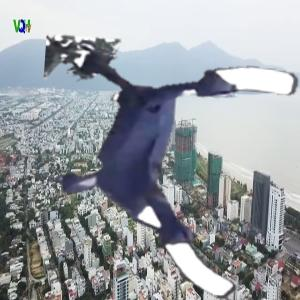drone: (39, 42, 296, 299)
